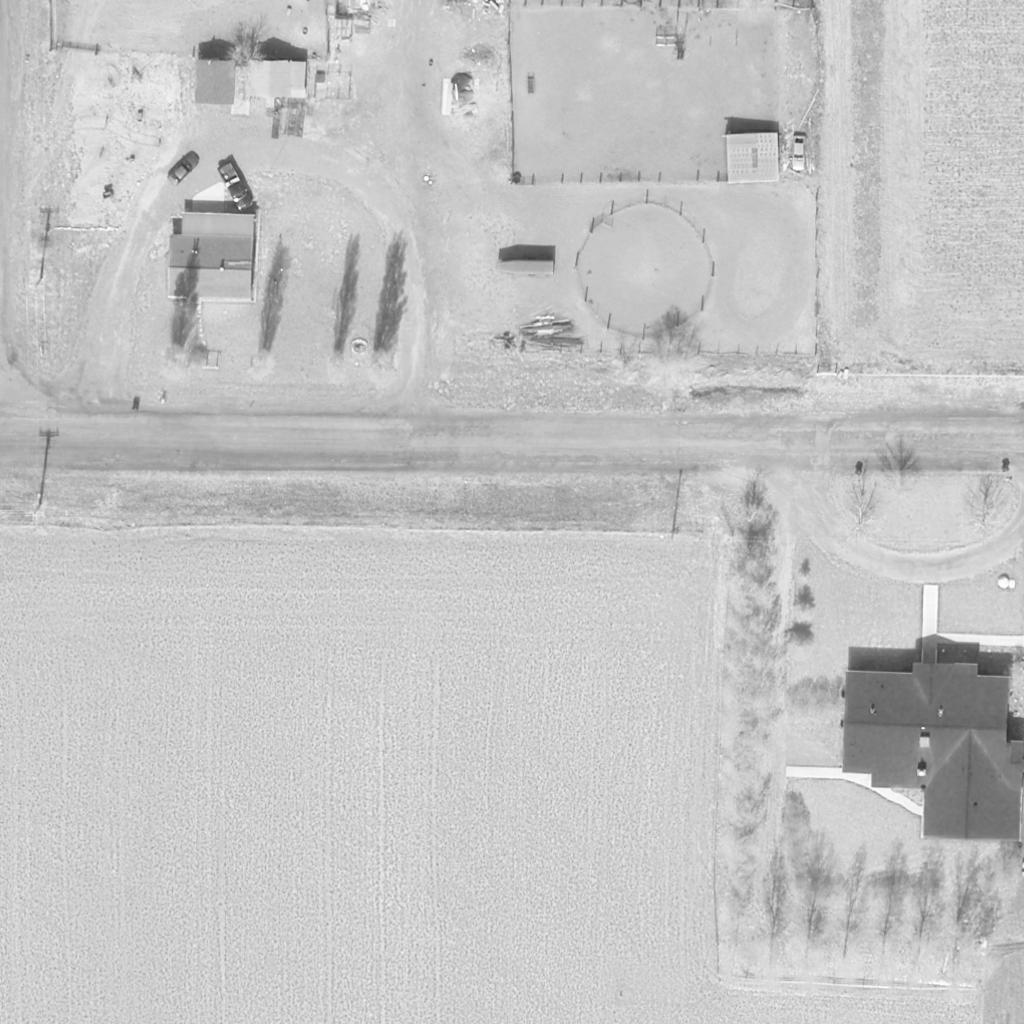vehicle: (217, 161, 255, 213), (165, 151, 201, 187)
